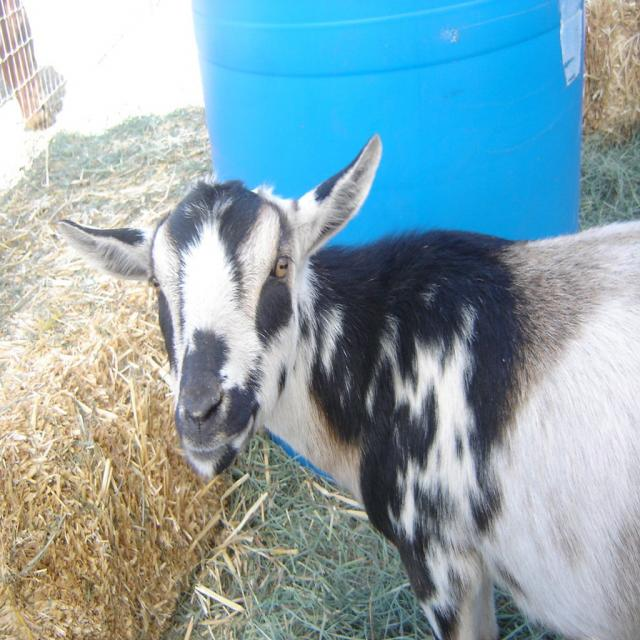Goat: (72, 109, 640, 619)
